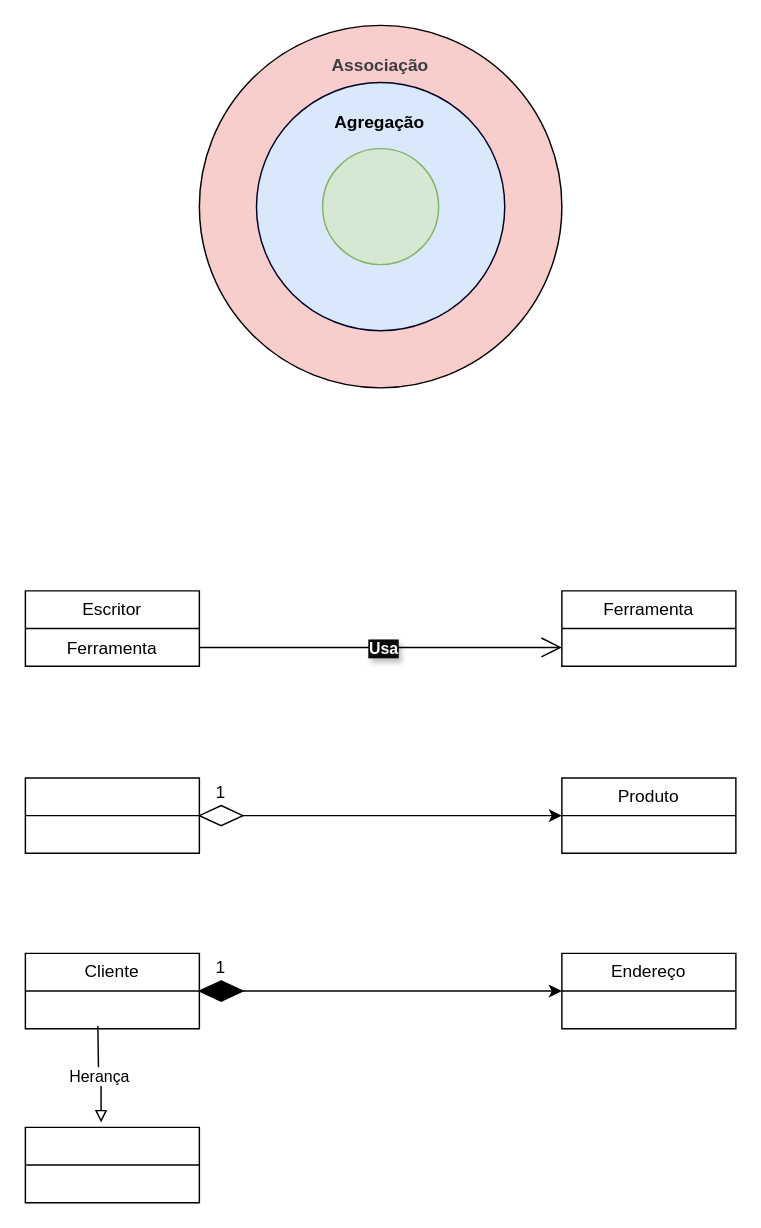
This 761x1228 diagram has some shape labels left out. Each missing label, with the centre of its shape:
CarrinhoDeCompra: [111,814]
Composição: [380,206]
Pessoa: [111,1164]
